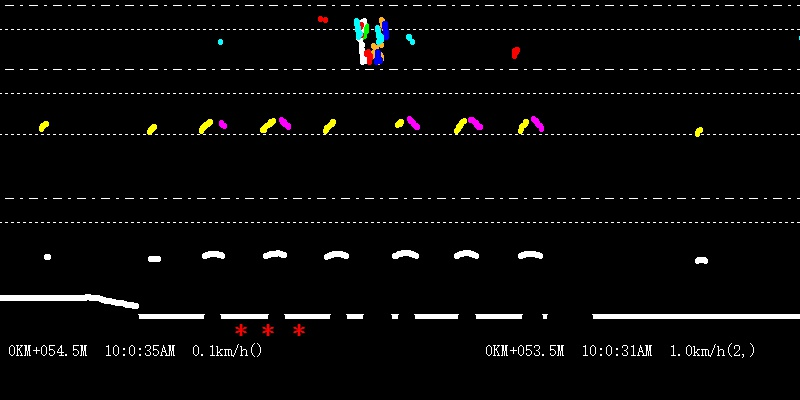J: (353, 2, 389, 64)
face_down: (405, 22, 417, 44)
face_up: (318, 15, 330, 34)
star: (230, 322, 250, 338), (291, 321, 307, 337), (261, 323, 276, 339)
y_p: (189, 111, 552, 272)
